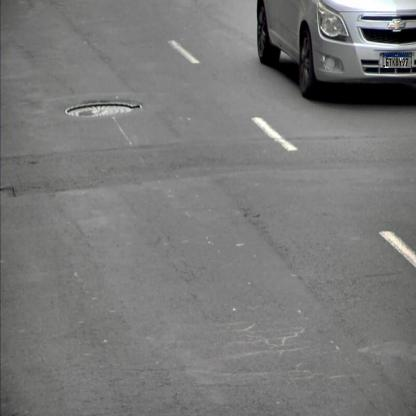PlacaM: (383, 52, 412, 69)
